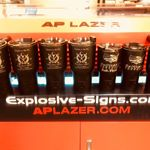cups: (7, 37, 40, 99), (39, 35, 69, 97), (67, 35, 96, 95), (95, 41, 122, 96), (121, 41, 148, 92)
